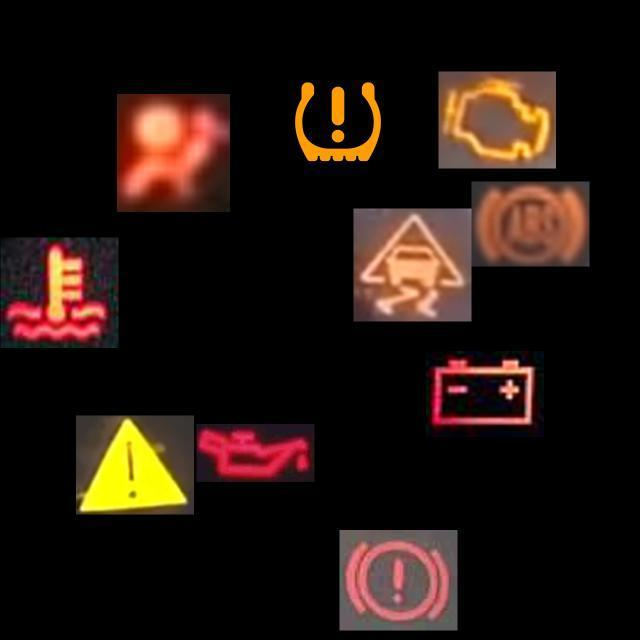Central Warning lamp: (76, 416, 194, 514)
Engine cooling system: (0, 238, 119, 348)
